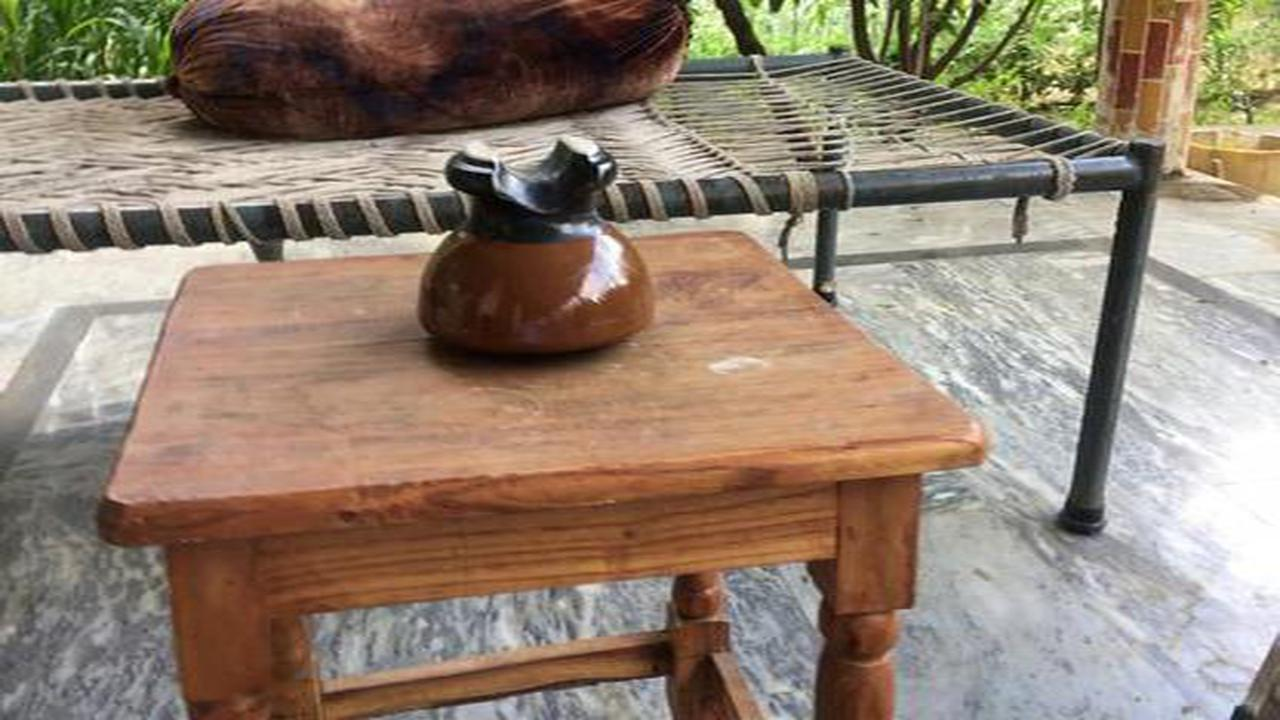insulator_pin: (388, 131, 693, 385)
